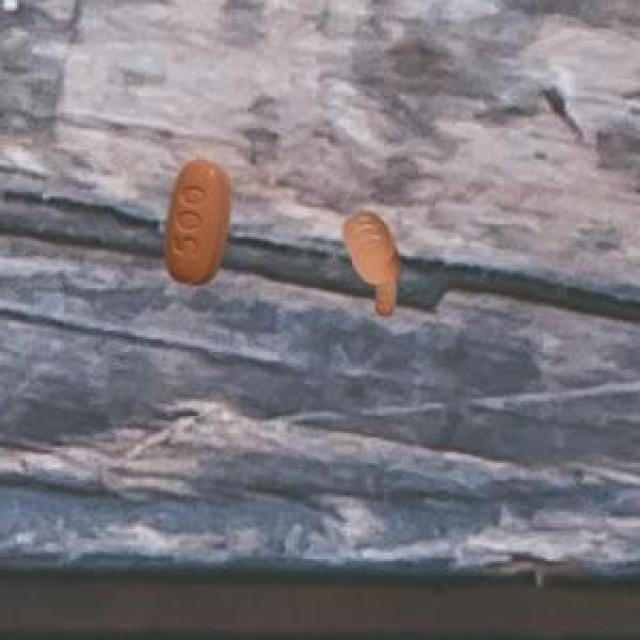Biogesic: (152, 151, 258, 298), (333, 200, 419, 328)
